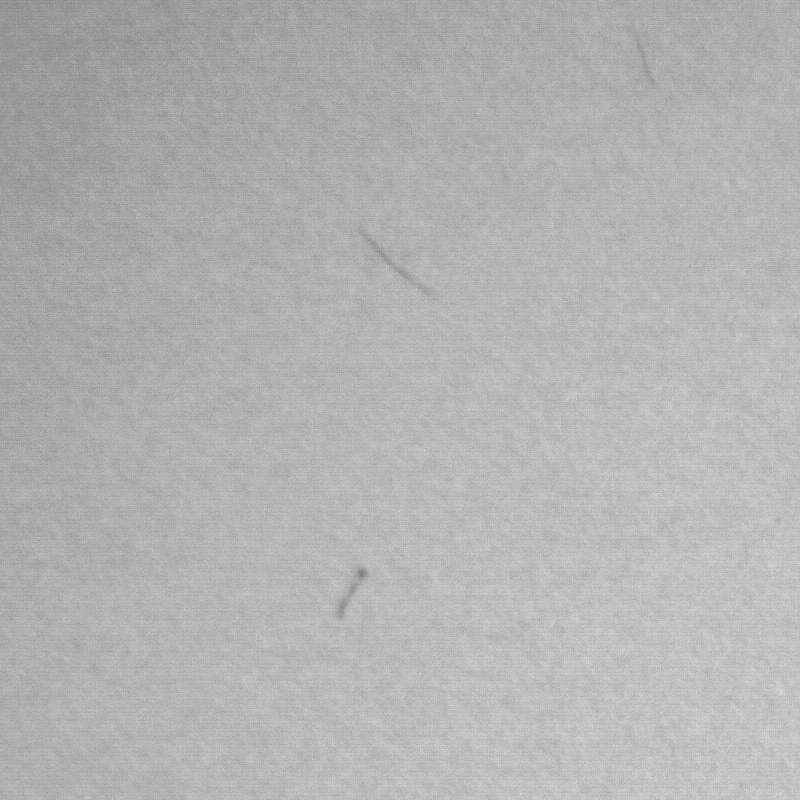defect: (362, 238, 444, 306), (334, 574, 367, 626), (632, 29, 658, 77)
